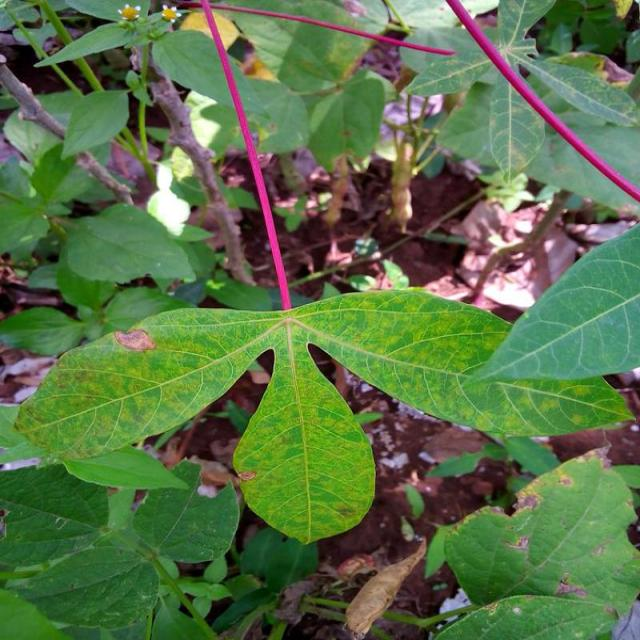cassava leaf: (14, 284, 635, 544)
